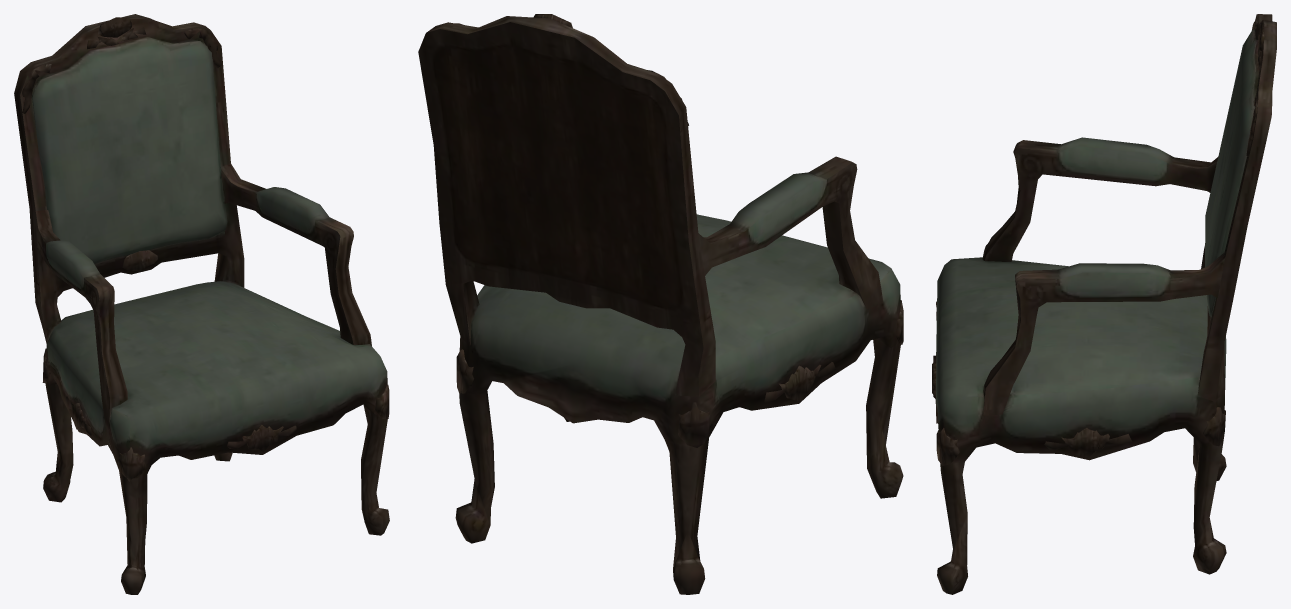
Rendered from GreenChair_01.glb.
3 renders of one model, left to right at view 1: azimuth 30°, elevation 25°; view 2: azimuth 150°, elevation 25°; view 3: azimuth 270°, elevation 25°, orthographic. The views are drawn at different scales.
Parts seen in each view (by area): view 1: GreenChair_01; view 2: GreenChair_01; view 3: GreenChair_01.
Boxes of the visible parts, <box> form: GreenChair_01: <box>14,14,389,594</box>; GreenChair_01: <box>418,14,903,594</box>; GreenChair_01: <box>932,14,1276,594</box>.
Size of the model in its own units: 0.6716 by 1.06 by 0.6644.
1 material, 1 textured.
